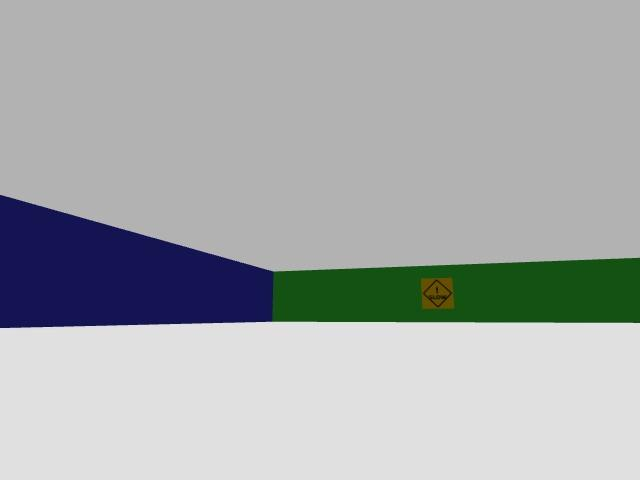slow: (422, 278, 453, 308)
